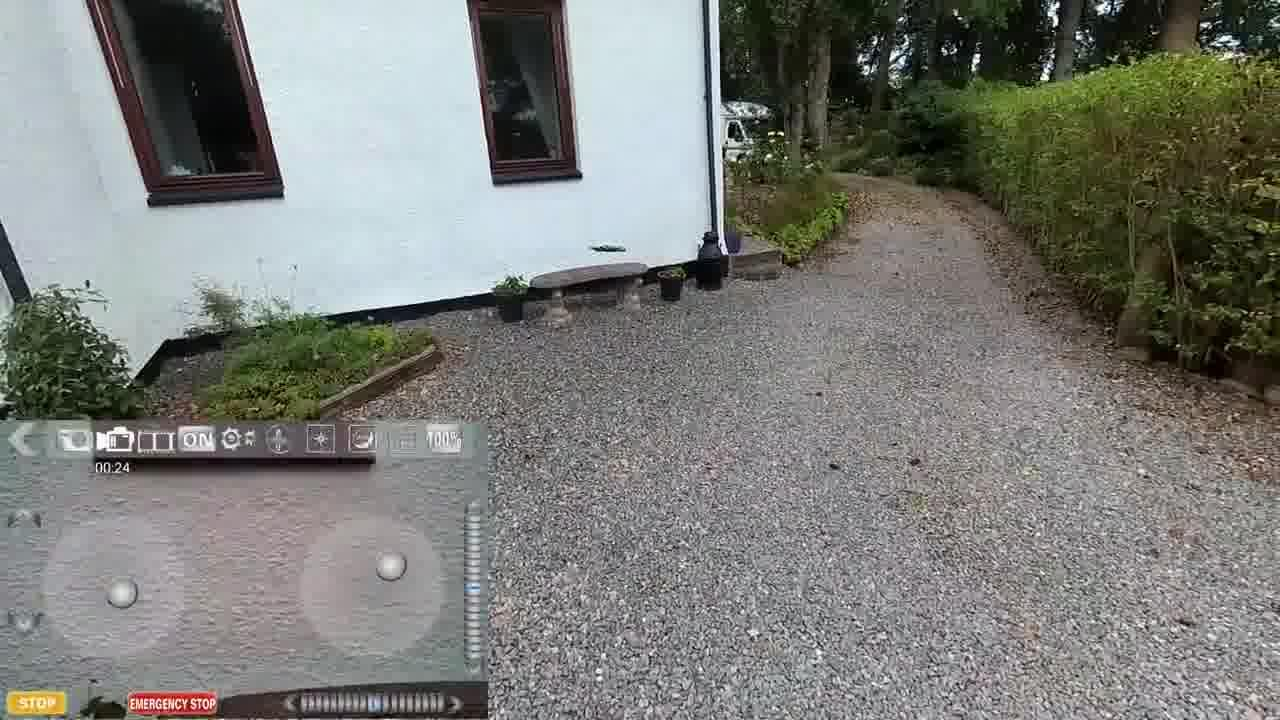Drone: (585, 236, 636, 259)
